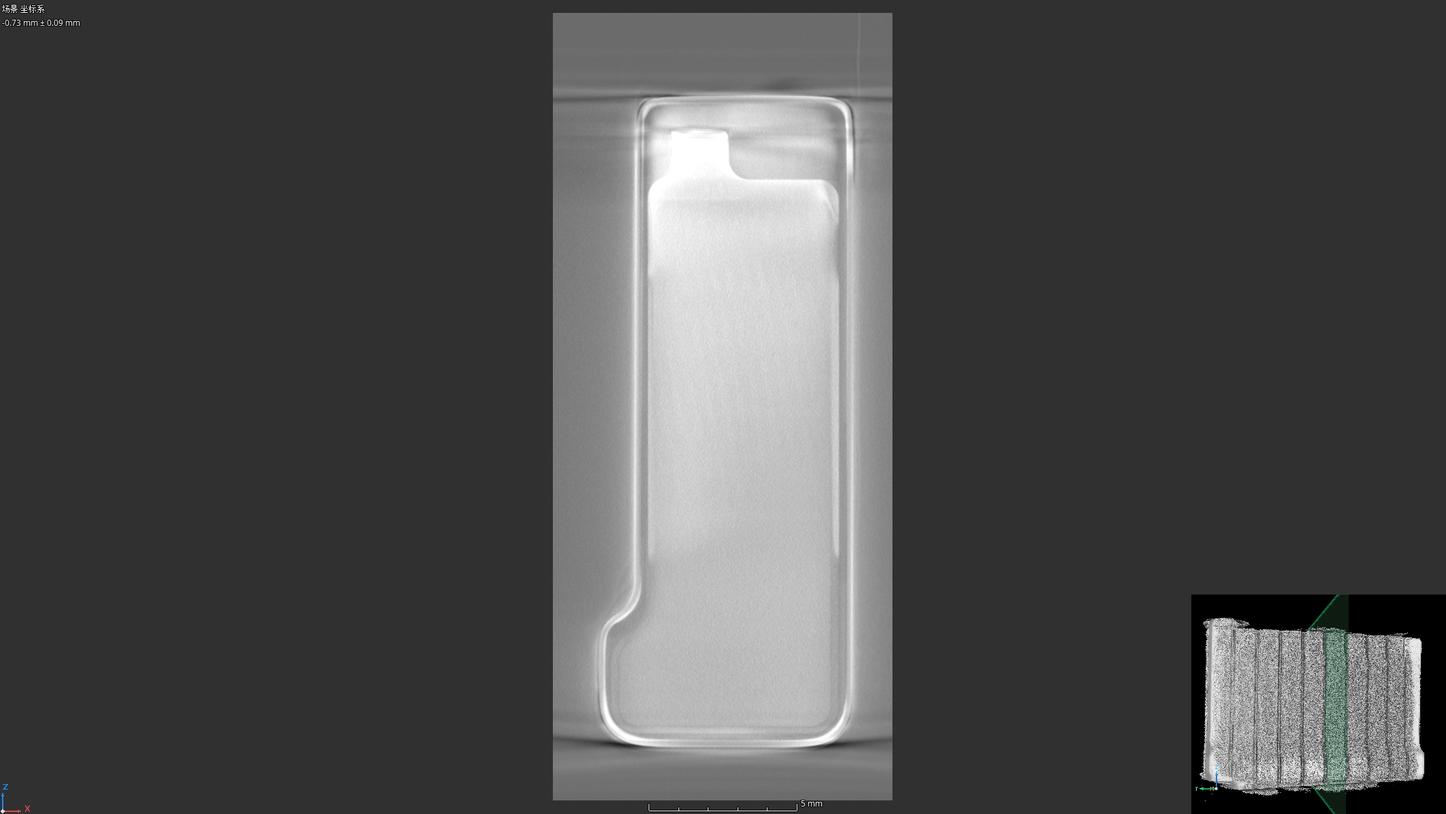damage: (821, 181, 842, 221)
